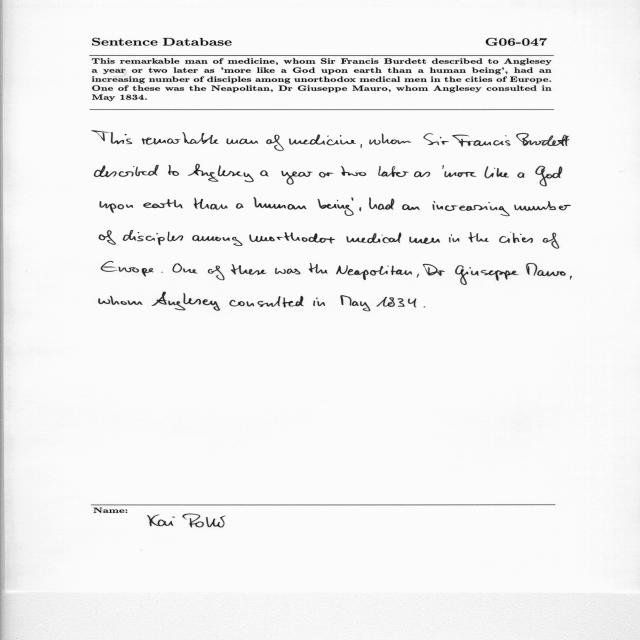word: (152, 292, 220, 311), (455, 265, 519, 285), (188, 164, 254, 182), (433, 201, 510, 216), (336, 265, 412, 280), (142, 132, 219, 145), (249, 232, 335, 243), (123, 230, 183, 245), (101, 261, 154, 277), (229, 296, 304, 307), (94, 165, 159, 177), (289, 135, 356, 146), (253, 197, 307, 210), (452, 135, 510, 147), (516, 133, 569, 146), (318, 199, 354, 216), (347, 233, 401, 244), (514, 201, 571, 211), (192, 235, 242, 246), (535, 166, 562, 186), (92, 131, 133, 144), (526, 263, 566, 276), (341, 296, 371, 312), (369, 134, 411, 145), (281, 171, 313, 185), (377, 297, 417, 308), (194, 198, 228, 210), (100, 201, 133, 213), (231, 264, 267, 275), (99, 296, 143, 305), (499, 232, 533, 243), (143, 199, 183, 208), (378, 166, 409, 177), (369, 197, 394, 210), (423, 133, 449, 145), (484, 167, 509, 179), (266, 135, 284, 151), (423, 264, 445, 276), (172, 264, 198, 274), (543, 233, 559, 249), (99, 230, 116, 245), (341, 166, 366, 176), (208, 266, 225, 280), (468, 232, 489, 243), (409, 237, 440, 244), (444, 171, 477, 177), (227, 139, 259, 145), (309, 263, 328, 273), (275, 268, 300, 274), (168, 165, 179, 176), (402, 205, 420, 211), (313, 298, 325, 307), (414, 172, 430, 178), (319, 172, 334, 178), (449, 235, 460, 243), (260, 171, 269, 177), (518, 172, 525, 178), (236, 203, 243, 209), (360, 144, 362, 148), (352, 197, 354, 201), (360, 208, 362, 212), (570, 276, 572, 280), (417, 274, 419, 277), (443, 165, 444, 169), (161, 272, 163, 273), (424, 307, 425, 308)
